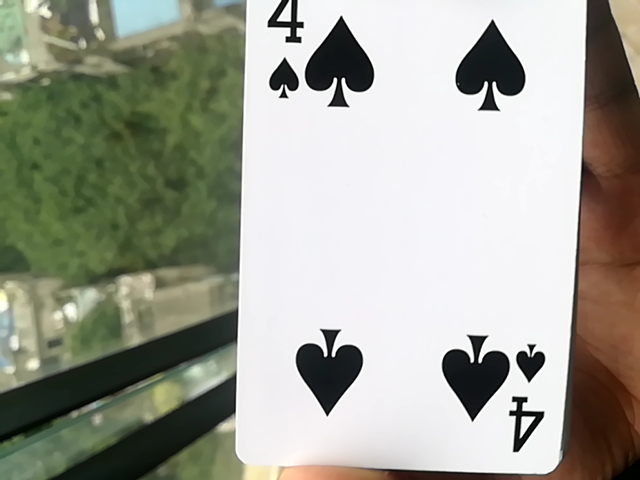ht 4: (227, 10, 595, 478)
